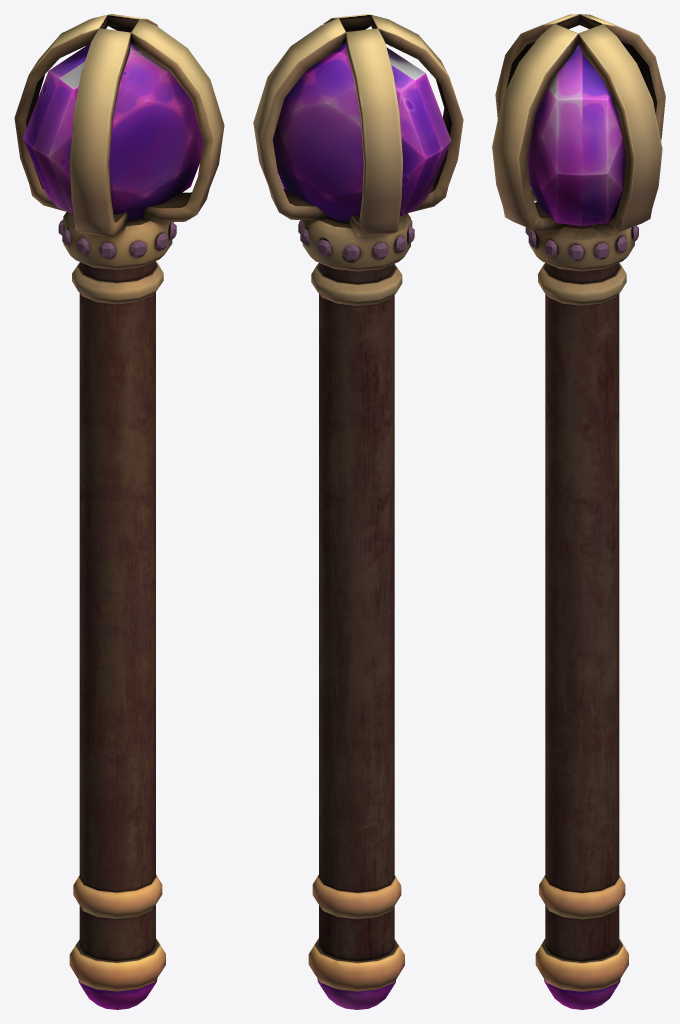
The model's file is RoyalScepter.fbx.
3 views of the same model, side by side, from view 1: azimuth 30°, elevation 25°; view 2: azimuth 150°, elevation 25°; view 3: azimuth 270°, elevation 25° (orthographic).
Parts seen in each view (by area): view 1: Royal_Scepter; view 2: Royal_Scepter; view 3: Royal_Scepter.
Boxes of the visible parts, x1,y1,x2,y2 form: Royal_Scepter: (14,14,224,1009); Royal_Scepter: (253,14,463,1009); Royal_Scepter: (492,14,665,1009).
Bounding box in the file's own units: 2.08 × 11.27 × 1.81.
